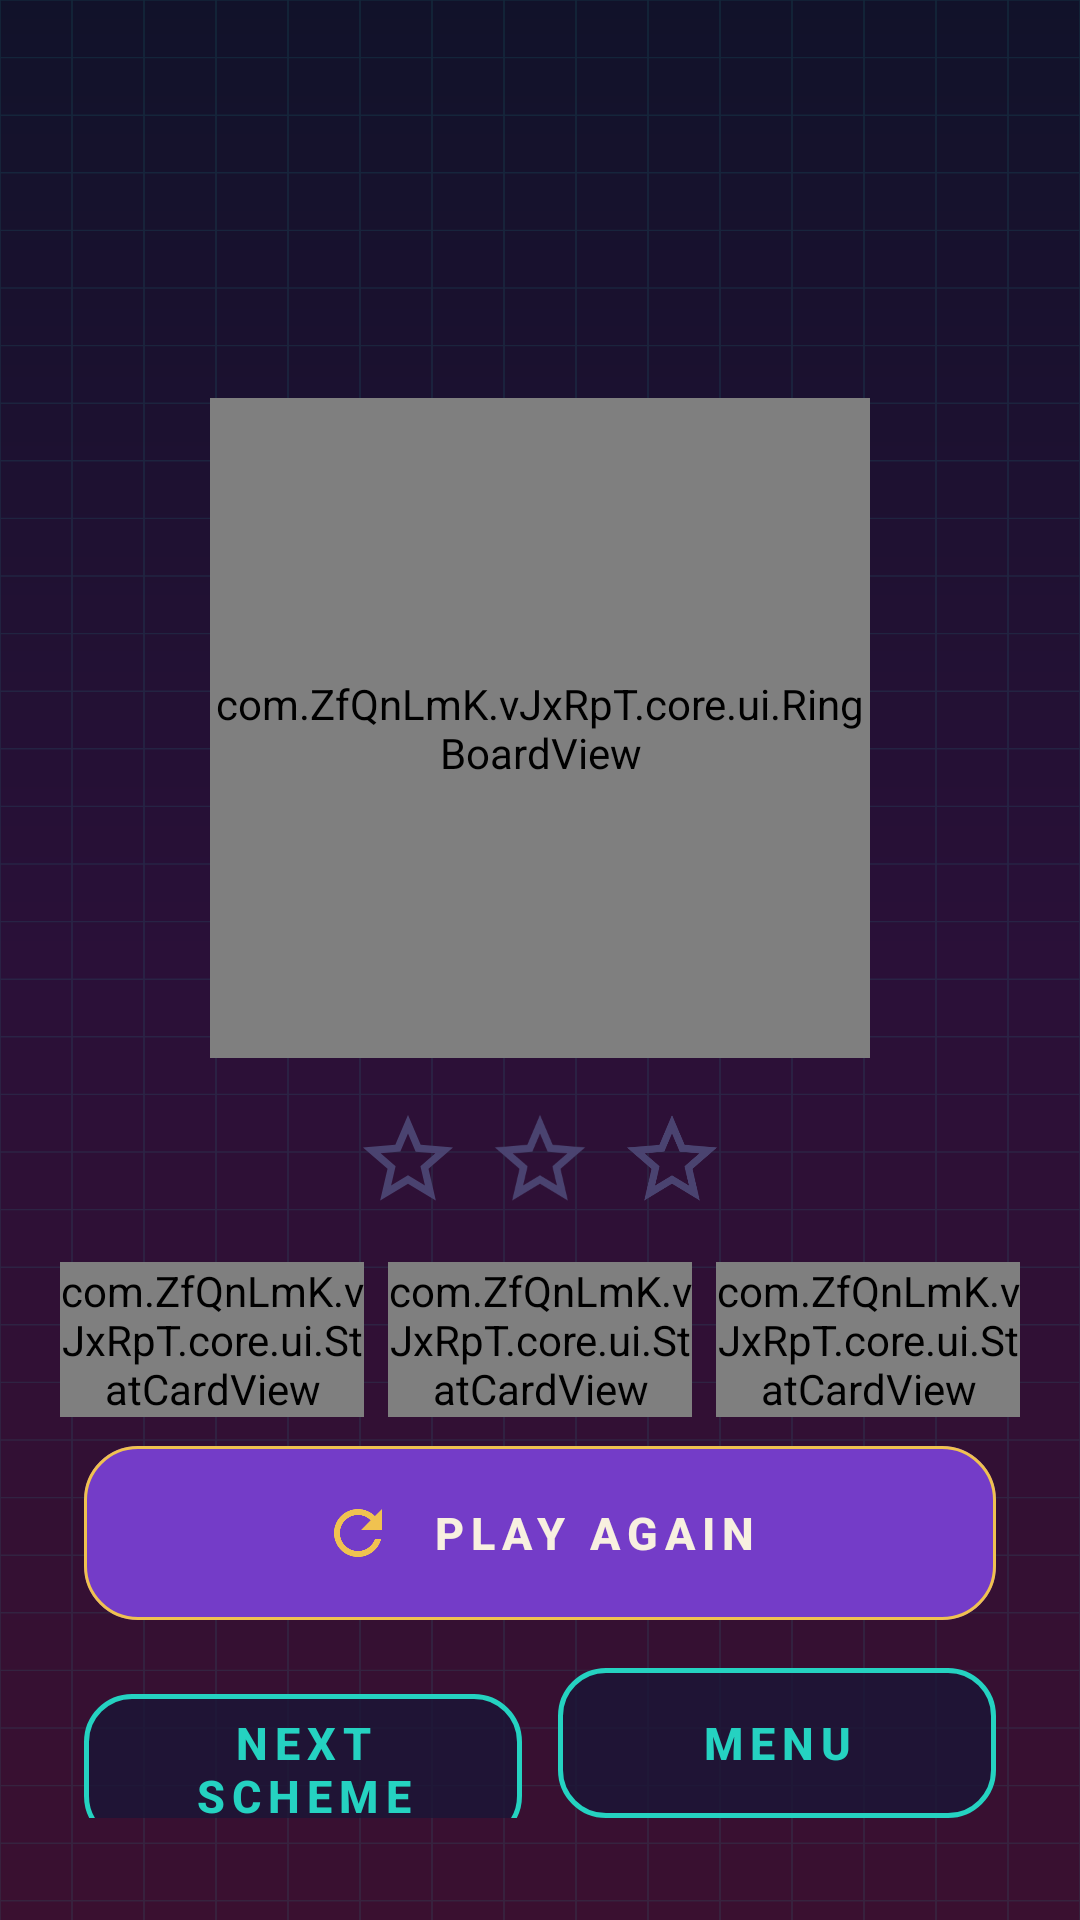

Icons on this 1080w x 1920h Android screen, each with its box as BBox(x1, y1, x2, y2):
RANK STAR: BBox(363, 1116, 452, 1200), BBox(495, 1116, 585, 1200), BBox(627, 1116, 717, 1200)
